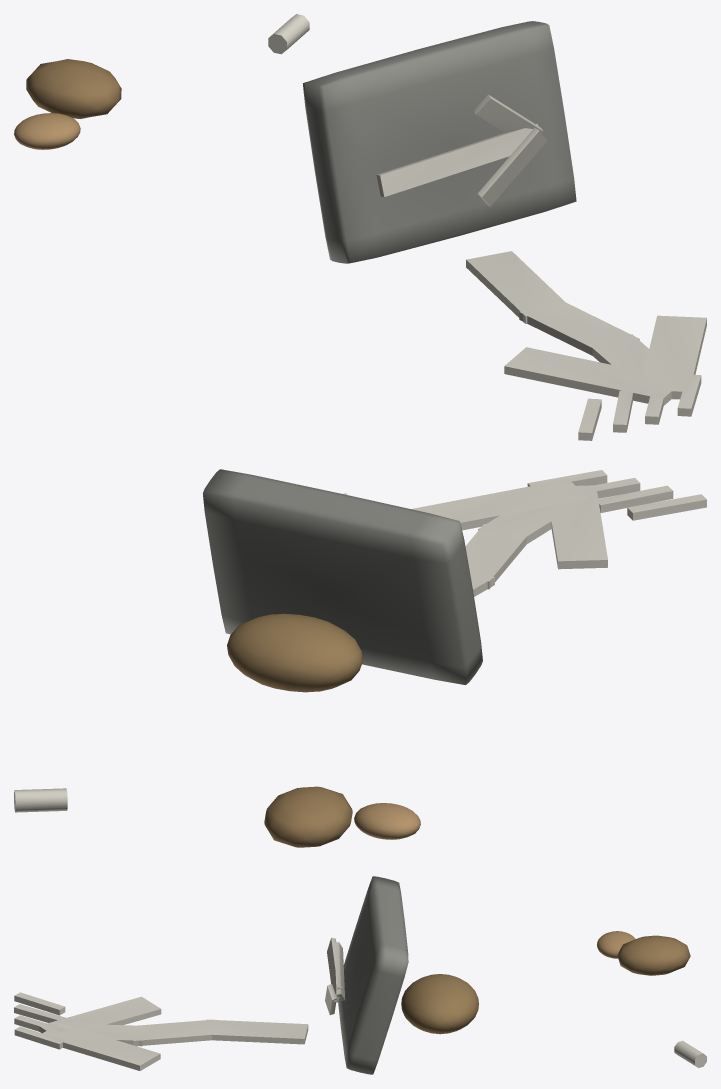
File: chalk_turn_c.glb
The picture shows the model from 3 angles, top to bottom: view 1: azimuth 30°, elevation 25°; view 2: azimuth 150°, elevation 25°; view 3: azimuth 270°, elevation 25°; orthographic projection. The views are drawn at different scales.
Visible parts, largest first — view 1: Surface; view 2: Surface; view 3: Surface.
Boxes of the visible parts, x1,y1,x2,y2 form: Surface: [14, 14, 706, 440]; Surface: [14, 469, 706, 847]; Surface: [14, 876, 706, 1074].
Bounding box in the file's own units: 2.45 × 1.1 × 5.67.
